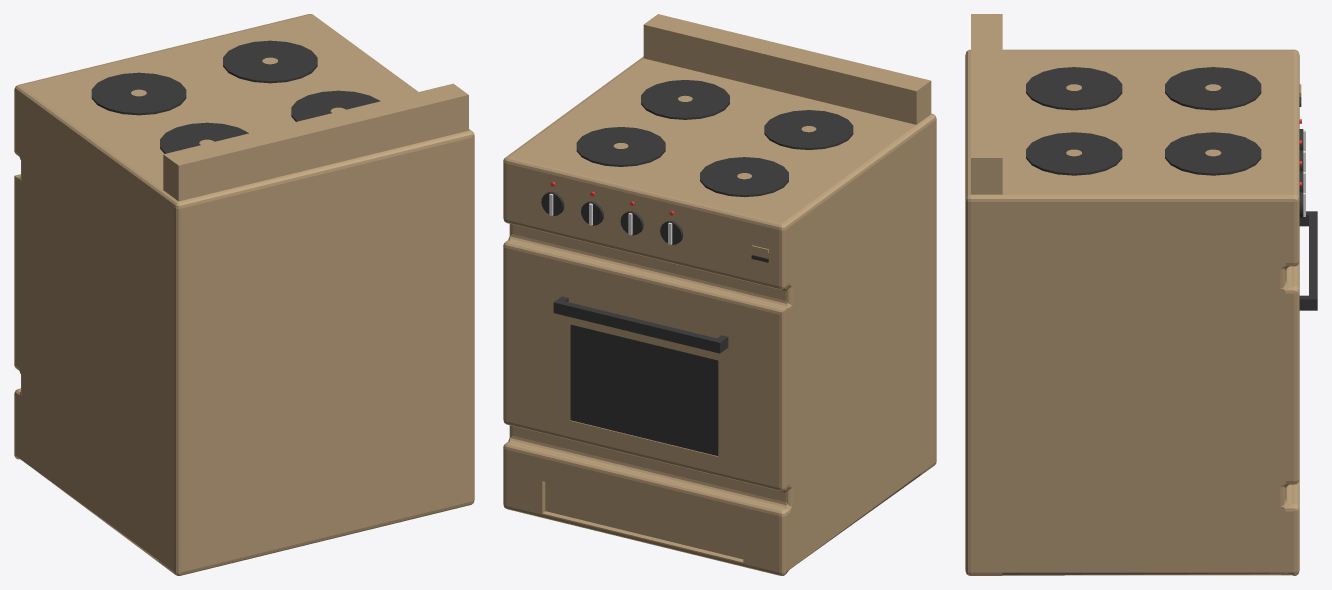
Rendered from Stove.gltf.
3 renders of one model, left to right at view 1: azimuth 30°, elevation 25°; view 2: azimuth 150°, elevation 25°; view 3: azimuth 270°, elevation 25°, orthographic. The views are drawn at different scales.
Visible parts, largest first — view 1: node-0; view 2: node-0; view 3: node-0.
Boxes of the visible parts, x1,y1,x2,y2 form: node-0: (14, 14, 474, 575); node-0: (503, 14, 936, 575); node-0: (965, 14, 1317, 575).
Size of the model in its own units: 16765 by 21894 by 16757.
